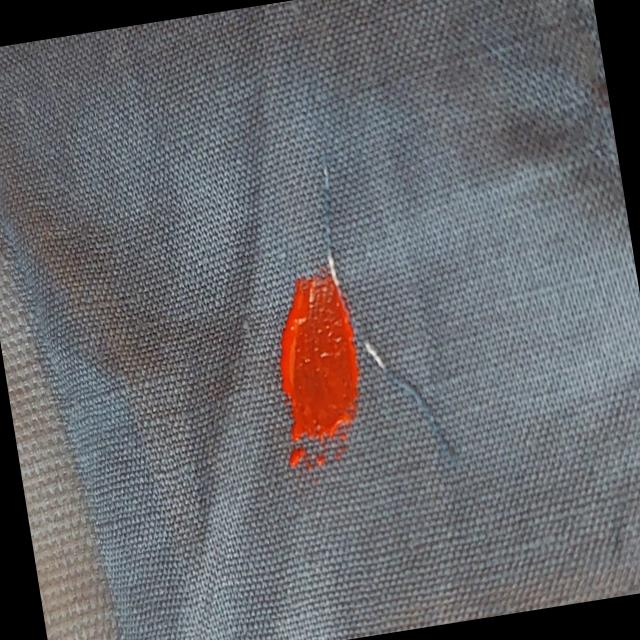Stain: (254, 267, 376, 481)
Thread: (306, 128, 466, 481)
